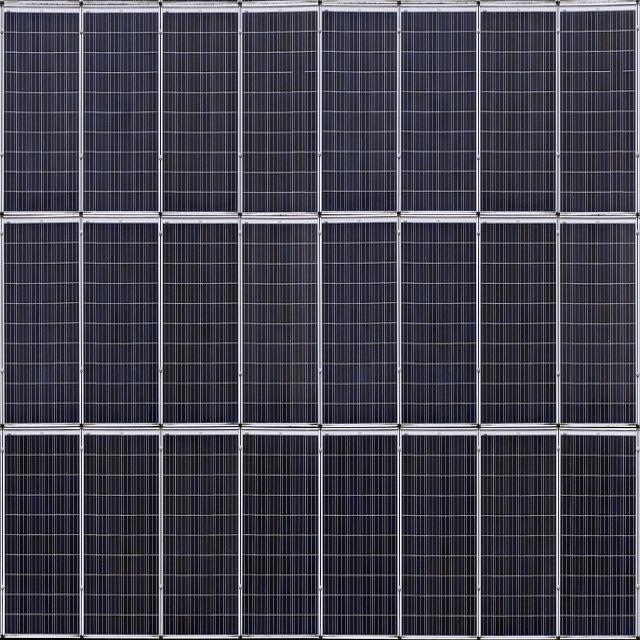clean-solar-panel: (1, 0, 640, 634)
